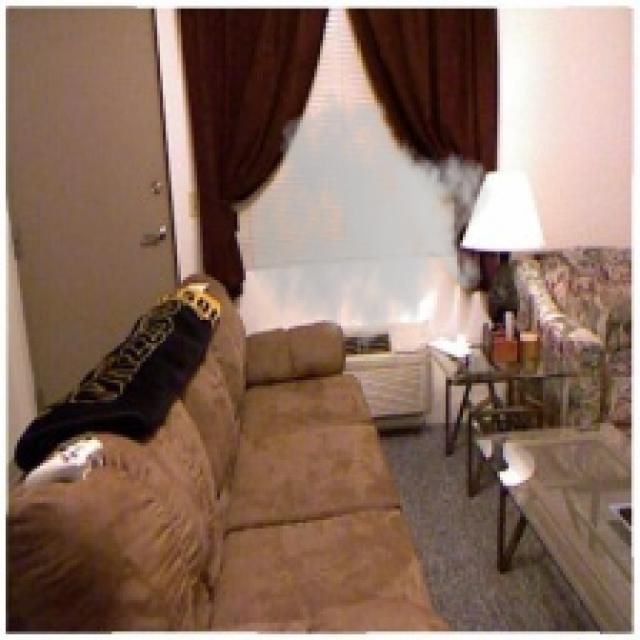Smoke: (246, 89, 494, 368)
